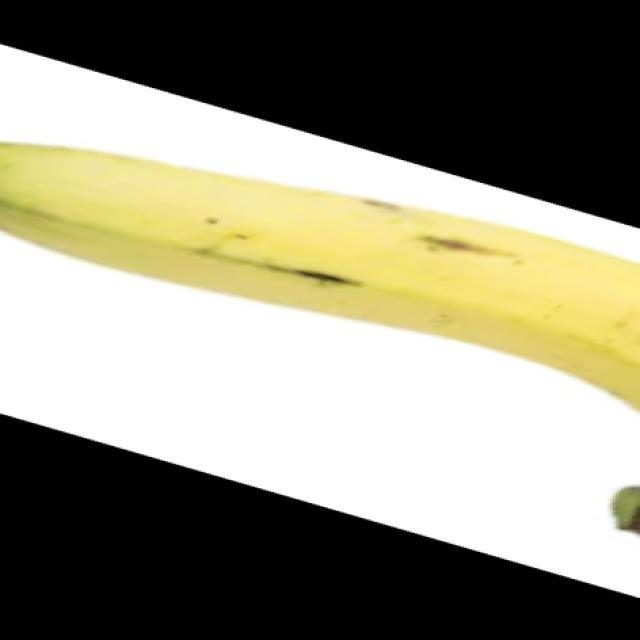Banana: (0, 131, 639, 555)
